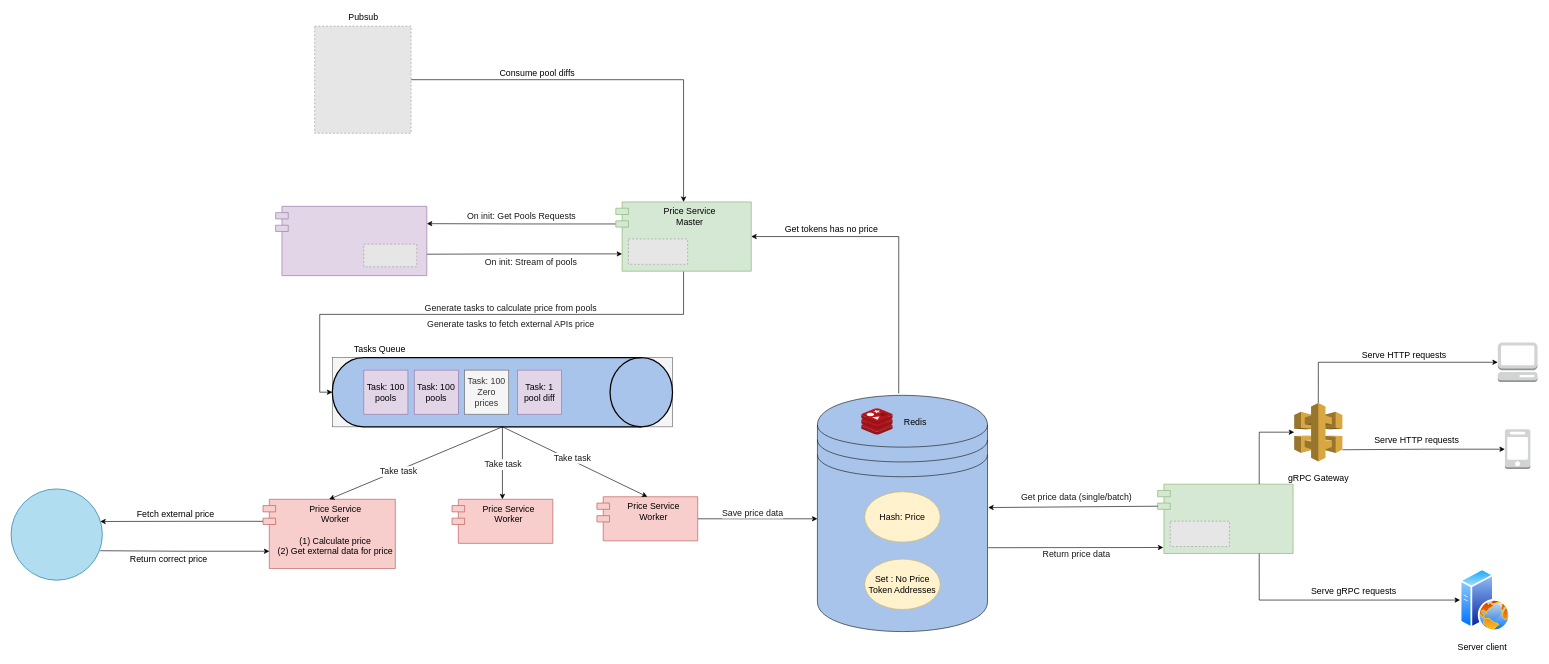
This 1549x664 diagram has some shape labels left out. Grey dashed boxes stand in for pictures. Here are the shapes that lost their labels. From the top down, the box of each, then its label:
(275, 206, 427, 276): Pool Service
(10, 488, 102, 580): Coingecko Coinmarketcap Dextools ...
(1157, 484, 1293, 553): Price Service API
